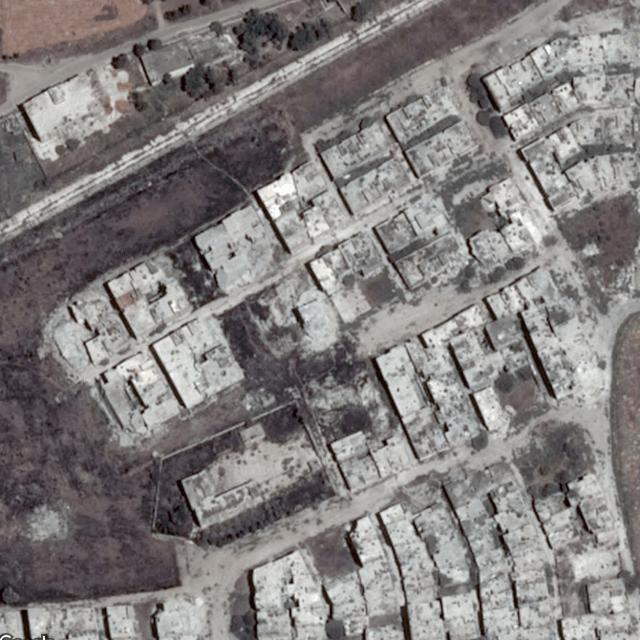damaged_building: (260, 275, 338, 350), (573, 353, 608, 404)
